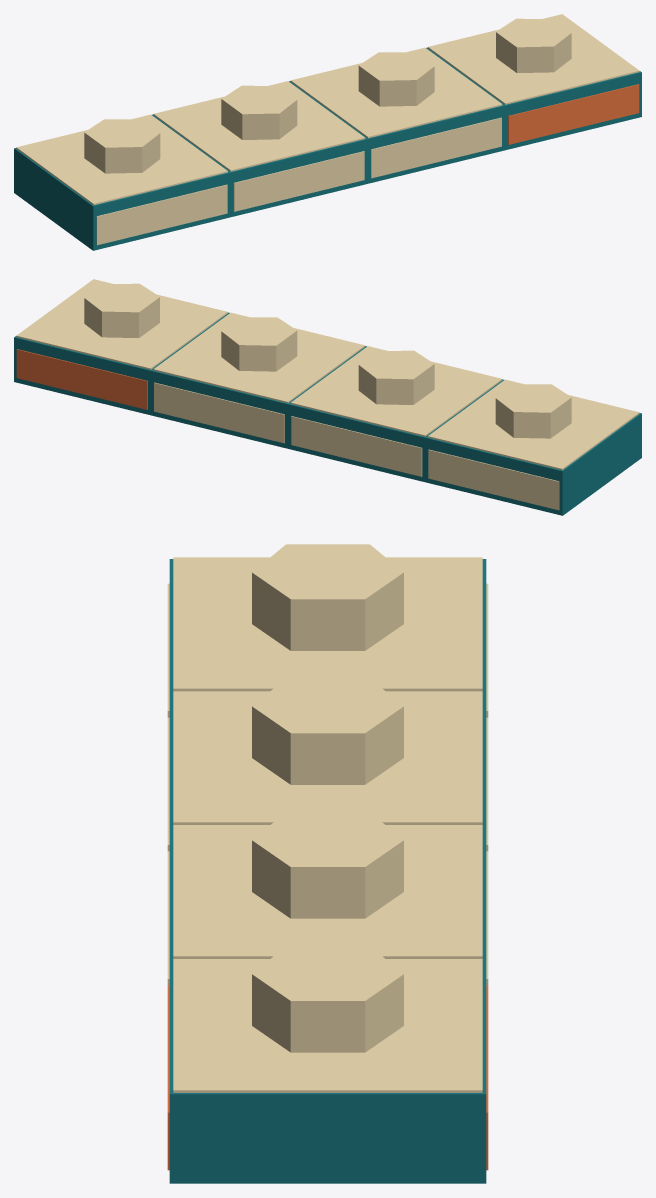
The model's file is beam-lod-2.glb.
The picture shows the model from 3 angles, top to bottom: view 1: azimuth 30°, elevation 25°; view 2: azimuth 150°, elevation 25°; view 3: azimuth 270°, elevation 25°; orthographic projection. The views are drawn at different scales.
Visible parts, largest first — view 1: beam_lod_2; view 2: beam_lod_2; view 3: beam_lod_2.
Boxes of the visible parts, x1=… form: beam_lod_2: x1=14, y1=14, x2=641, y2=250; beam_lod_2: x1=14, y1=279, x2=641, y2=515; beam_lod_2: x1=167, y1=544, x2=488, y2=1183.
Size of the model in its own units: 4 by 0.5 by 1.01.
